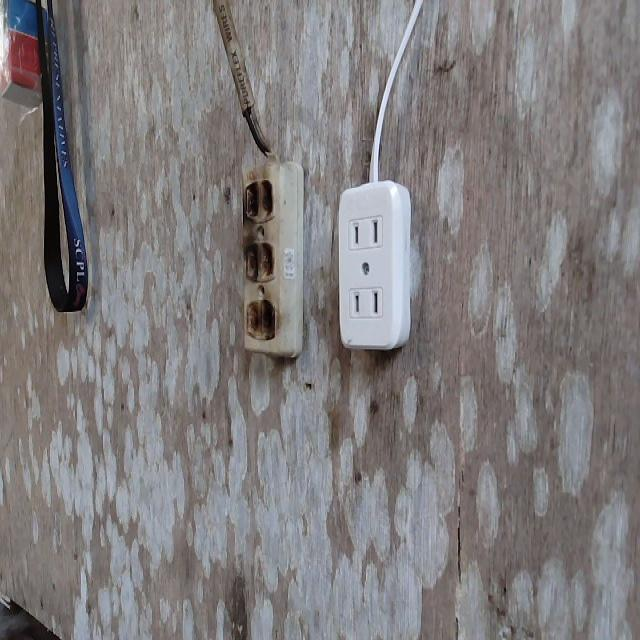-: (237, 175, 278, 344)
